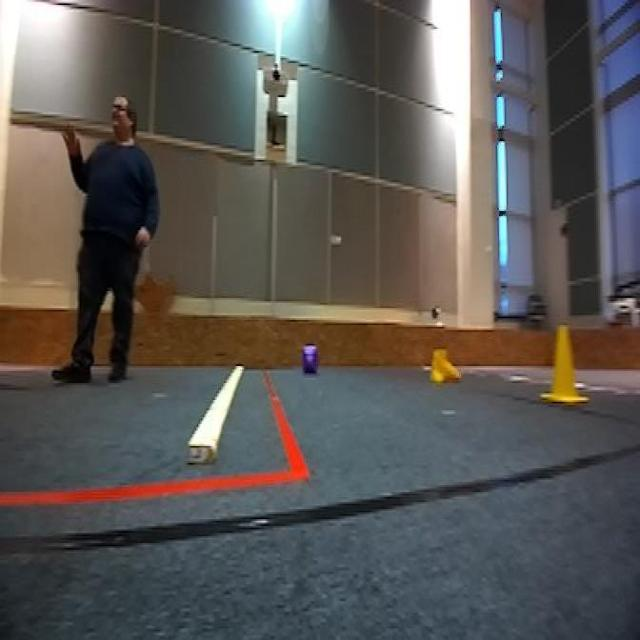frc_cone: (542, 322, 583, 410), (425, 346, 461, 386)
frc_cube: (298, 344, 319, 378)
